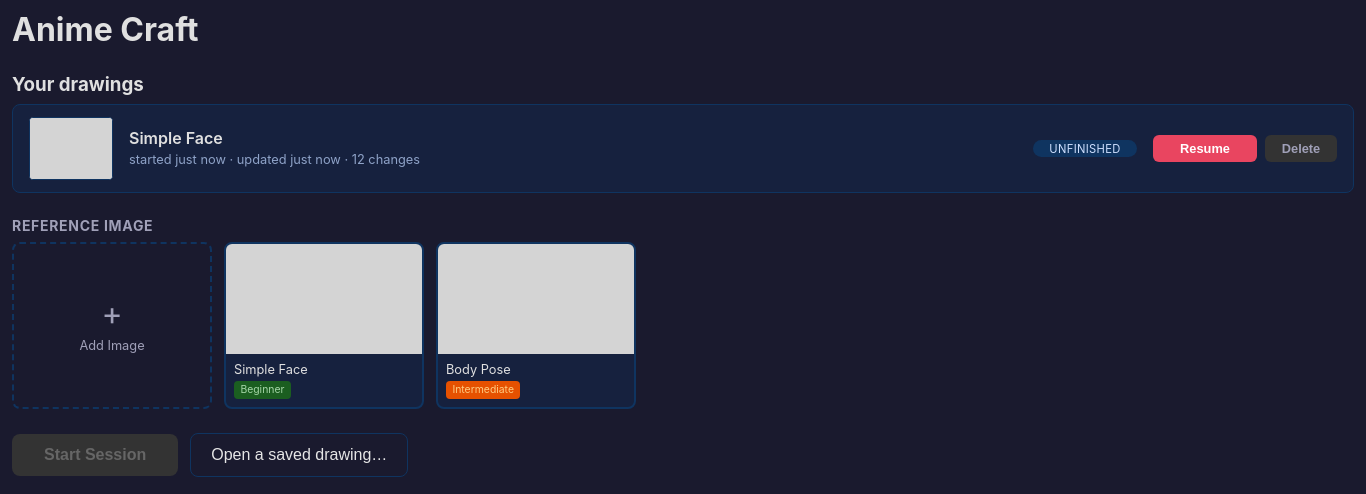
Scenario: HomePage › asks before deleting, and lets the artist back out
The width and height of the screenshot is (1366, 494).
Expected: the list item with test id "resume-item-session-042" is shown, [12,104,1354,193]
Click the button with test id "resume-delete-session-042" at point(1301, 148), box [1265,135,1337,162]
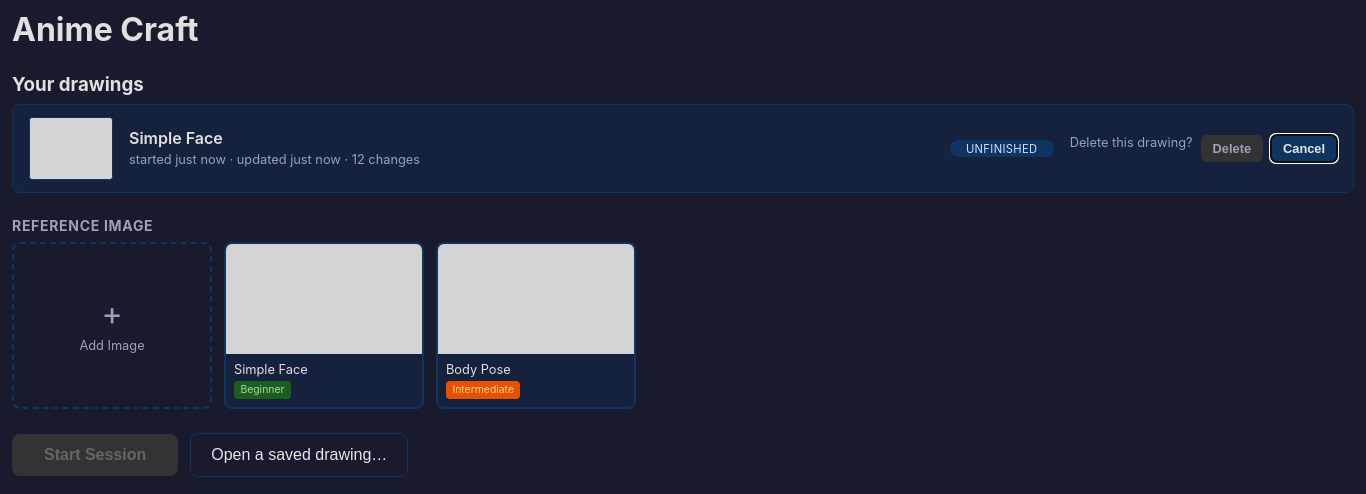
Expected: the text "Delete this drawing?" is shown, [1070,135,1193,150]
Click the button with test id "resume-delete-cancel-session-042" at point(1304, 148), box [1271,135,1337,162]
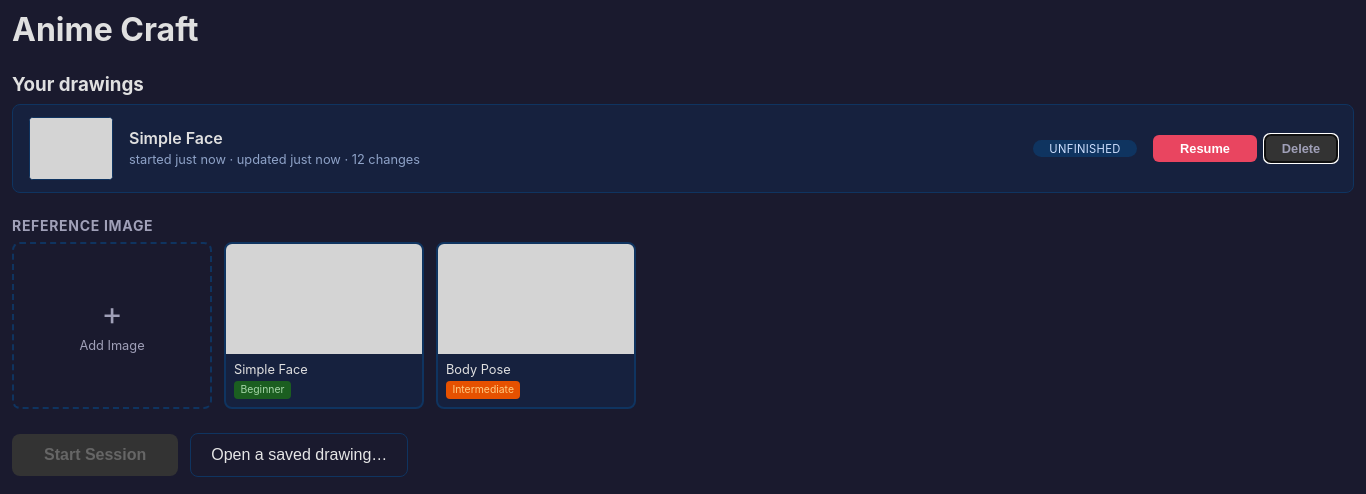
Expected: the text "Delete this drawing?" is gone
Expected: the button with test id "resume-btn-session-042" is shown, [1153,135,1257,162]
